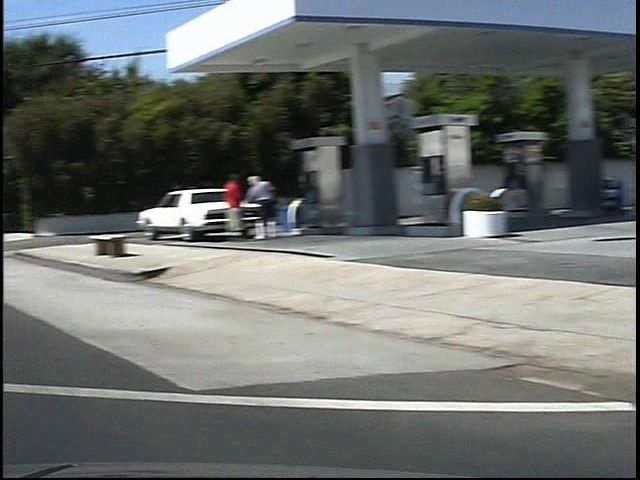person: (222, 171, 261, 243), (199, 170, 226, 244)
